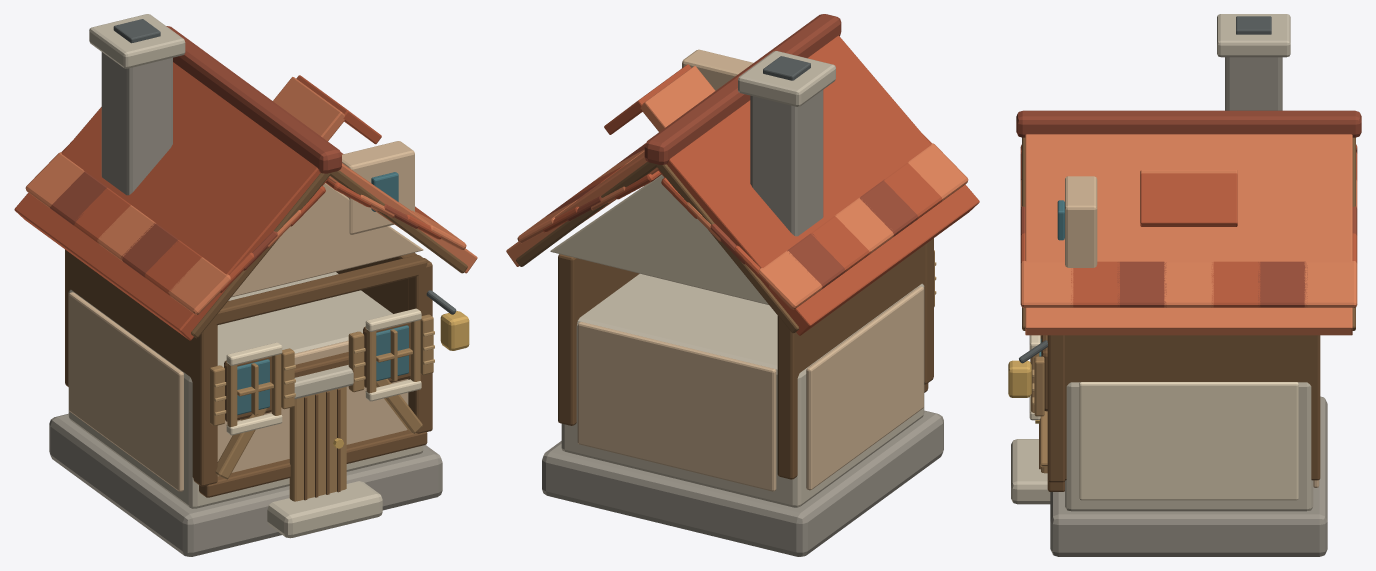
File: medieval_house.glb
3 views of the same model, side by side, from view 1: azimuth 30°, elevation 25°; view 2: azimuth 150°, elevation 25°; view 3: azimuth 270°, elevation 25° (orthographic). The views are drawn at different scales.
Visible parts, largest first — view 1: MedievalHouse_Geometry; view 2: MedievalHouse_Geometry; view 3: MedievalHouse_Geometry.
Part boxes in pixels (x1=…): MedievalHouse_Geometry: x1=14, y1=14, x2=477, y2=556; MedievalHouse_Geometry: x1=506, y1=14, x2=979, y2=556; MedievalHouse_Geometry: x1=1008, y1=14, x2=1361, y2=556.
Size of the model in its own units: 1.89 by 2.69 by 1.96.
